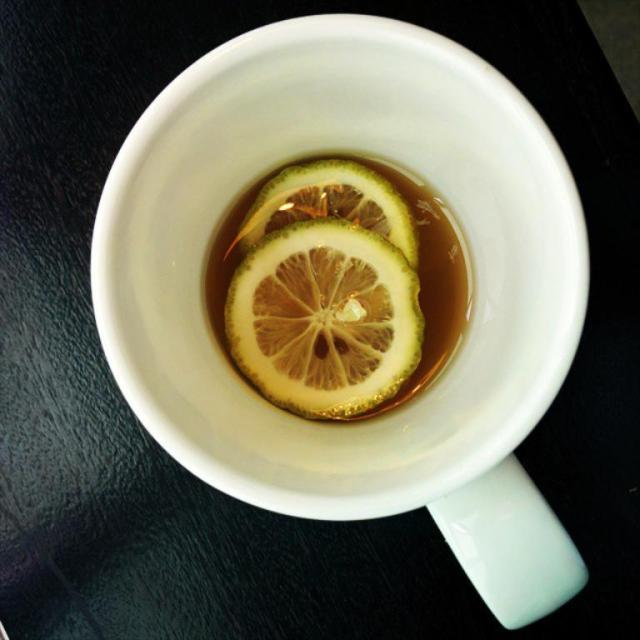Lemon: (225, 215, 426, 419), (239, 158, 421, 268)
